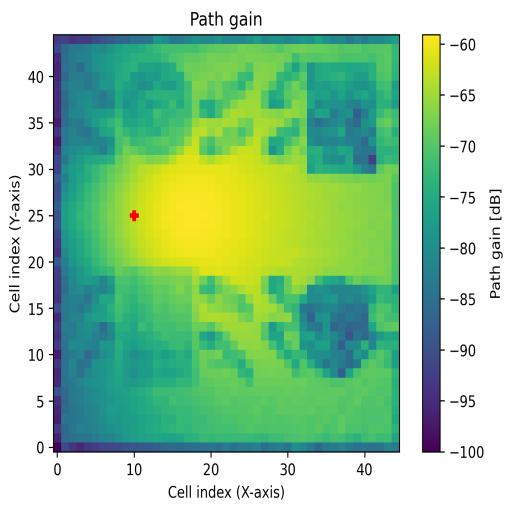Concrete: (308, 63, 377, 174)
Glass: (122, 54, 193, 166)
Metal: (301, 274, 376, 378)
Wood: (121, 266, 193, 388)
